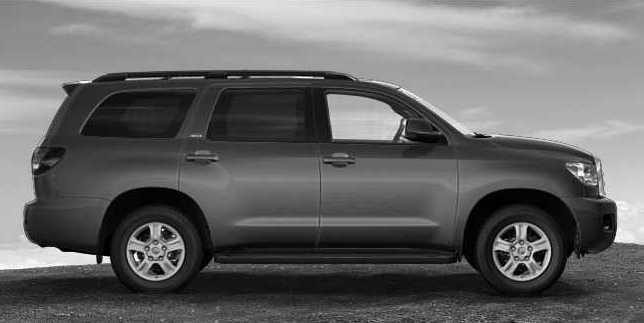car: (20, 68, 618, 300)
